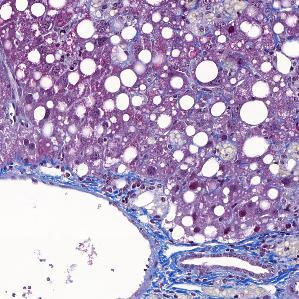fibrosis: (149, 240, 263, 288)
